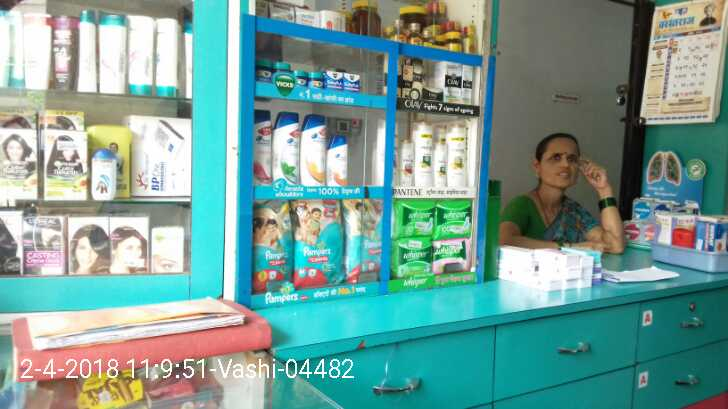vicks: (252, 60, 272, 84), (324, 71, 344, 91), (344, 75, 361, 92), (293, 68, 307, 87), (308, 71, 323, 88), (273, 63, 290, 71)
